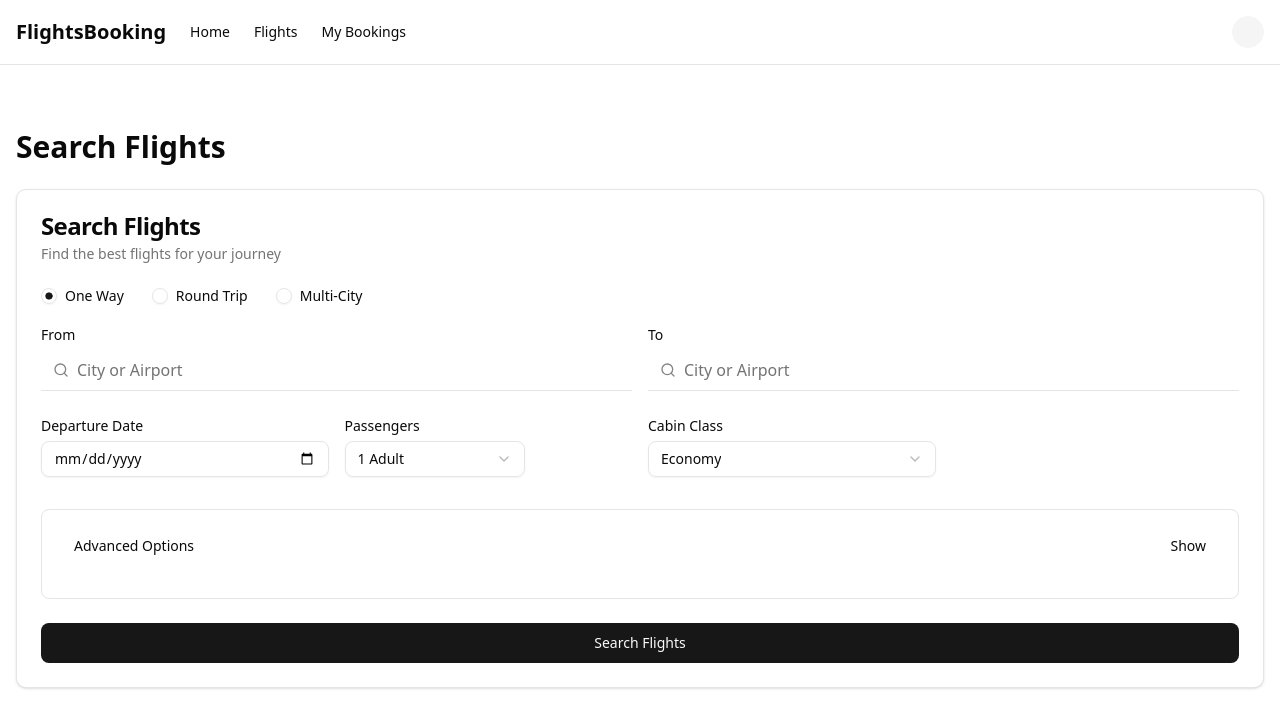
Flight Search › should be able to select origin and destination airports
Type "Delhi" into the dropdown with placeholder "City or Airport" below "From" at {"x": 349, "y": 370}, box [77, 350, 620, 390]
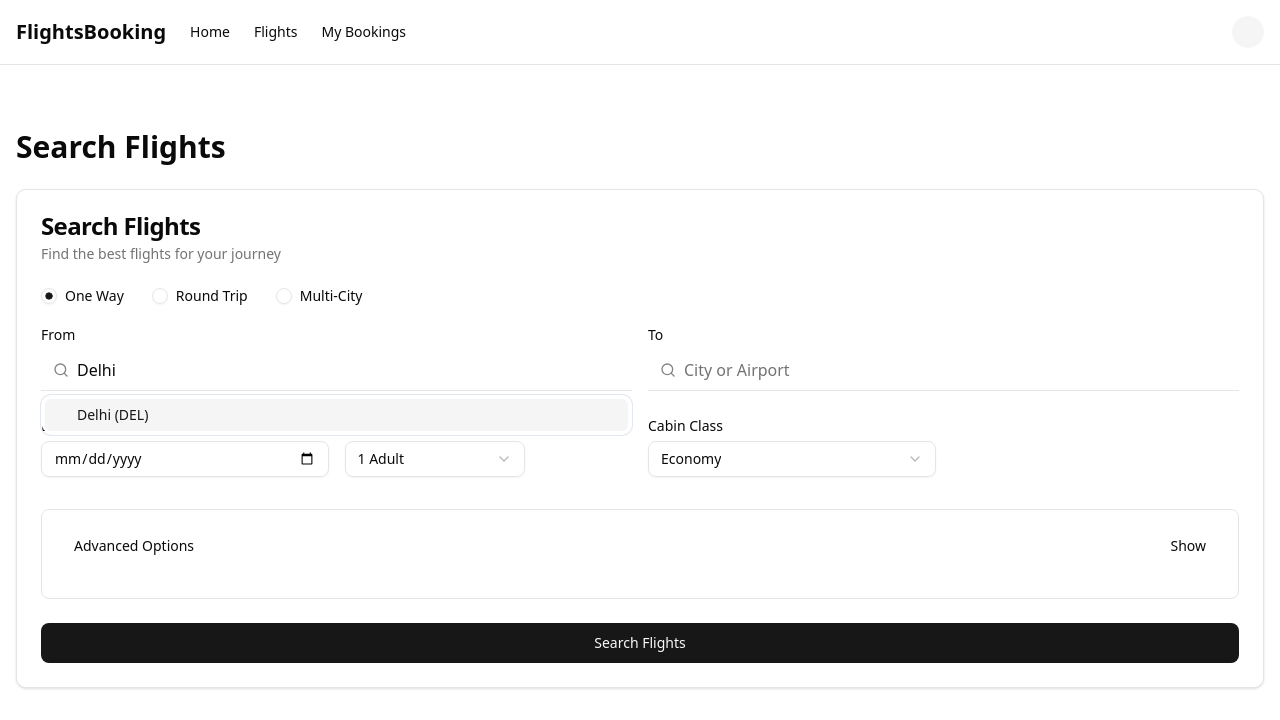
# Select Delhi from dropdown
Click the option "Delhi (DEL)" at {"x": 113, "y": 415}, box [45, 399, 628, 431]
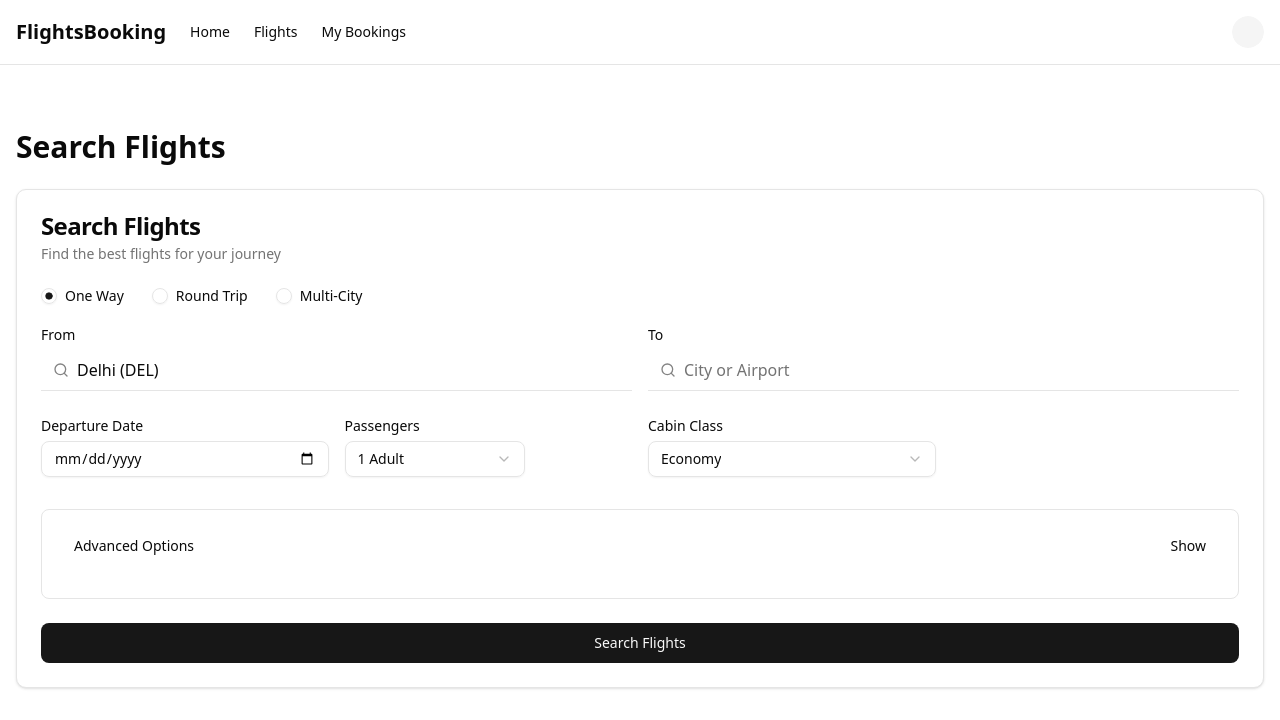
Type "Mumbai" into the dropdown with placeholder "City or Airport" at {"x": 956, "y": 370}, box [684, 350, 1227, 390]
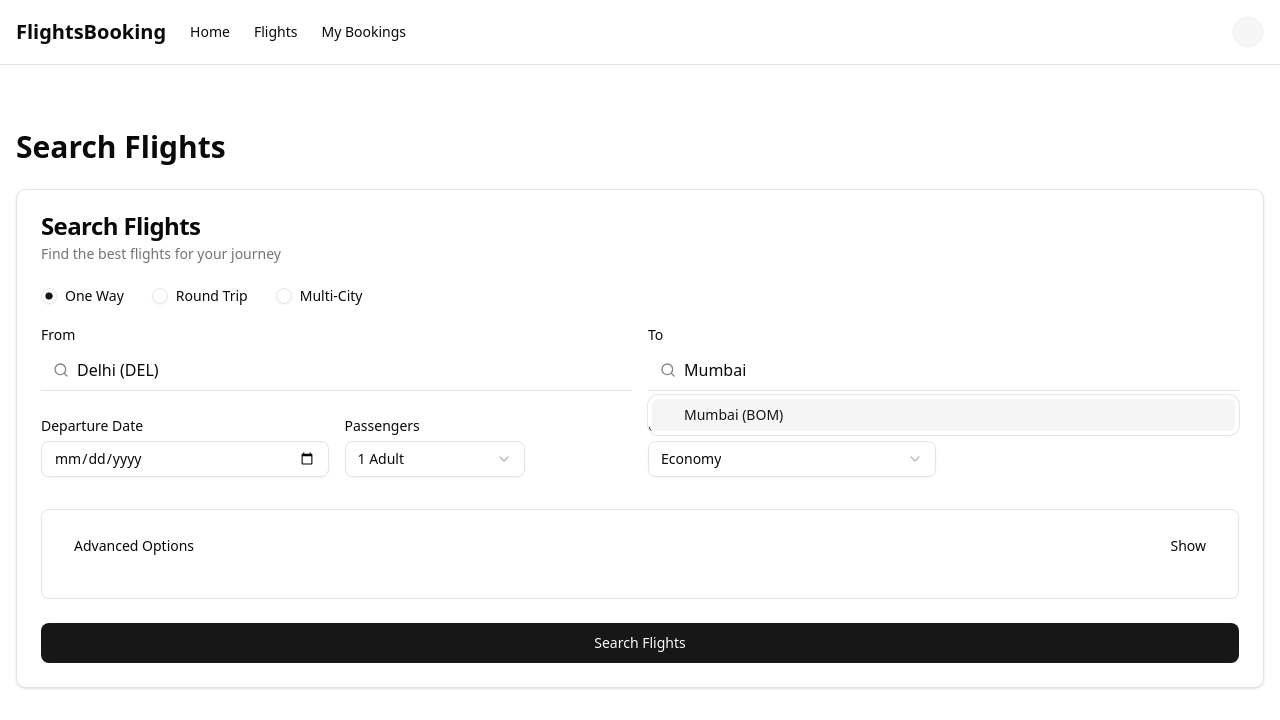
# Select Mumbai from dropdown
Click the option "Mumbai (BOM)" at {"x": 734, "y": 415}, box [652, 399, 1235, 431]
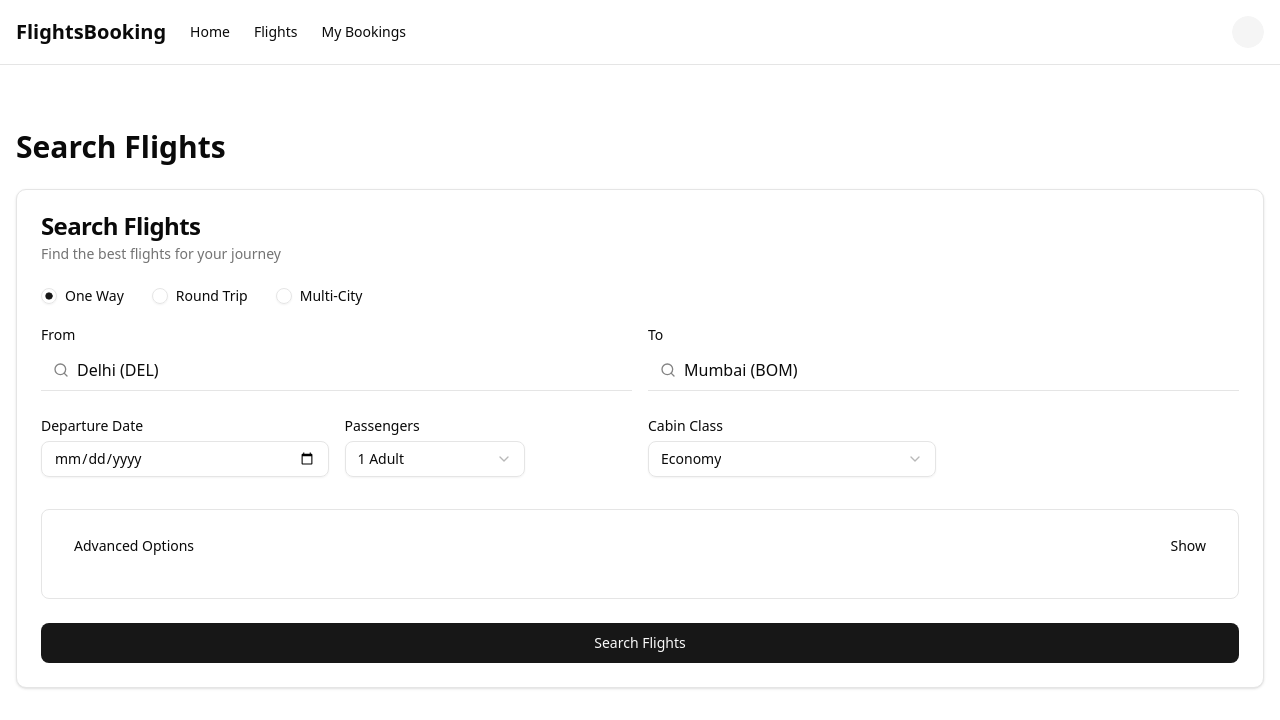
expect the dropdown below "From" holds "Delhi (DEL)": met, box [77, 350, 620, 390]
expect the dropdown below "To" holds "Mumbai (BOM)": met, box [684, 350, 1227, 390]
